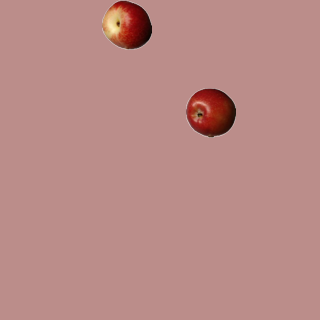Apple Braeburn: (185, 87, 235, 137)
Nectarine: (101, 0, 151, 49)
